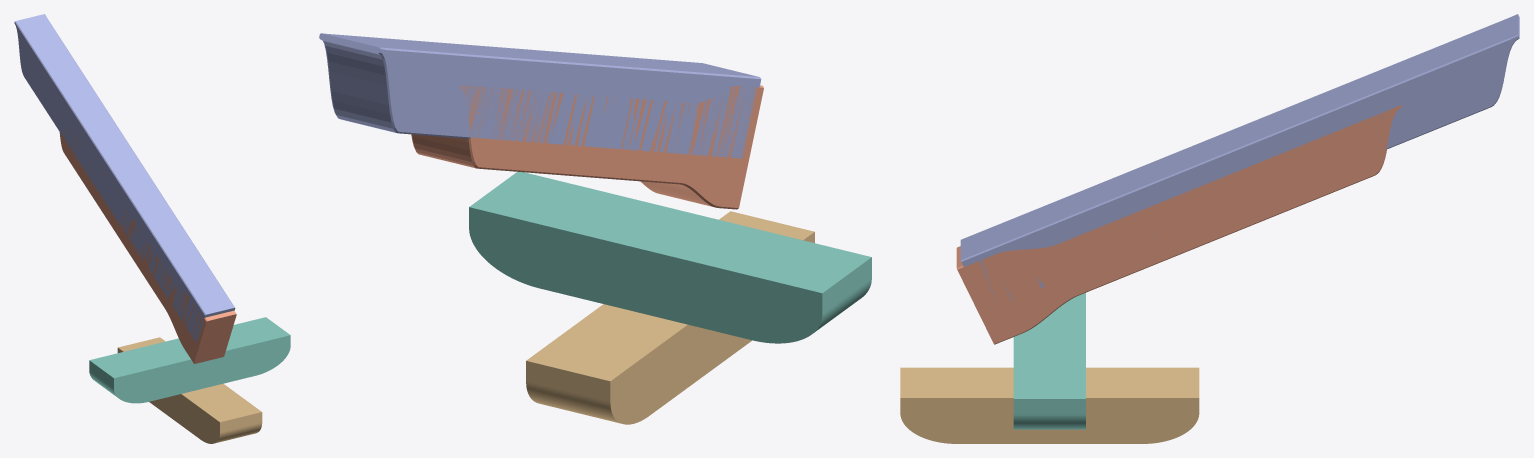
Rendered from WANFO_FOUR_GONG_ANG_PILOT_C01.glb.
3 views of the same model, side by side, from view 1: azimuth 30°, elevation 25°; view 2: azimuth 150°, elevation 25°; view 3: azimuth 270°, elevation 25° (orthographic). The views are drawn at different scales.
Parts seen in each view (by area): view 1: ER__二昂 C01, LING__令栱, TOU__头昂 C01, HUA1__第一跳华栱; view 2: LING__令栱, ER__二昂 C01, TOU__头昂 C01, HUA1__第一跳华栱; view 3: ER__二昂 C01, TOU__头昂 C01, HUA1__第一跳华栱, LING__令栱.
Part boxes in pixels (x1,y1,x2,y2): ER__二昂 C01: [14, 14, 235, 342]; LING__令栱: [89, 317, 290, 403]; TOU__头昂 C01: [59, 107, 236, 363]; HUA1__第一跳华栱: [117, 337, 262, 443]; LING__令栱: [469, 172, 871, 343]; ER__二昂 C01: [319, 33, 761, 158]; TOU__头昂 C01: [411, 85, 763, 209]; HUA1__第一跳华栱: [526, 211, 814, 424]; ER__二昂 C01: [960, 14, 1519, 304]; TOU__头昂 C01: [956, 105, 1401, 344]; HUA1__第一跳华栱: [900, 367, 1199, 443]; LING__令栱: [1013, 293, 1085, 429].
Bounding box in the file's own units: 0.897 × 1.34 × 1.86.
